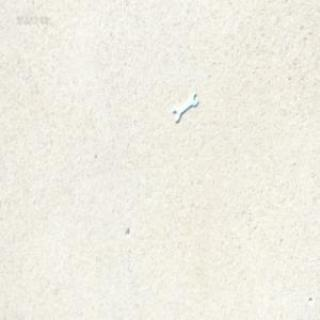Wrenchtrack_idkeyframe: (164, 87, 212, 129)
